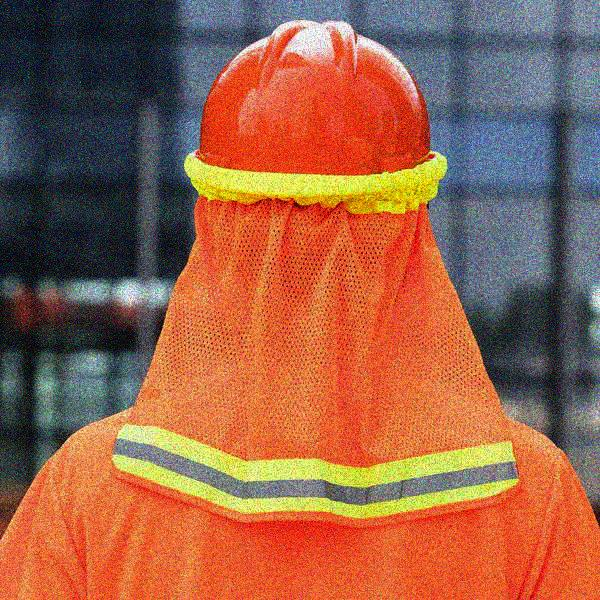helmet: (175, 16, 447, 264)
